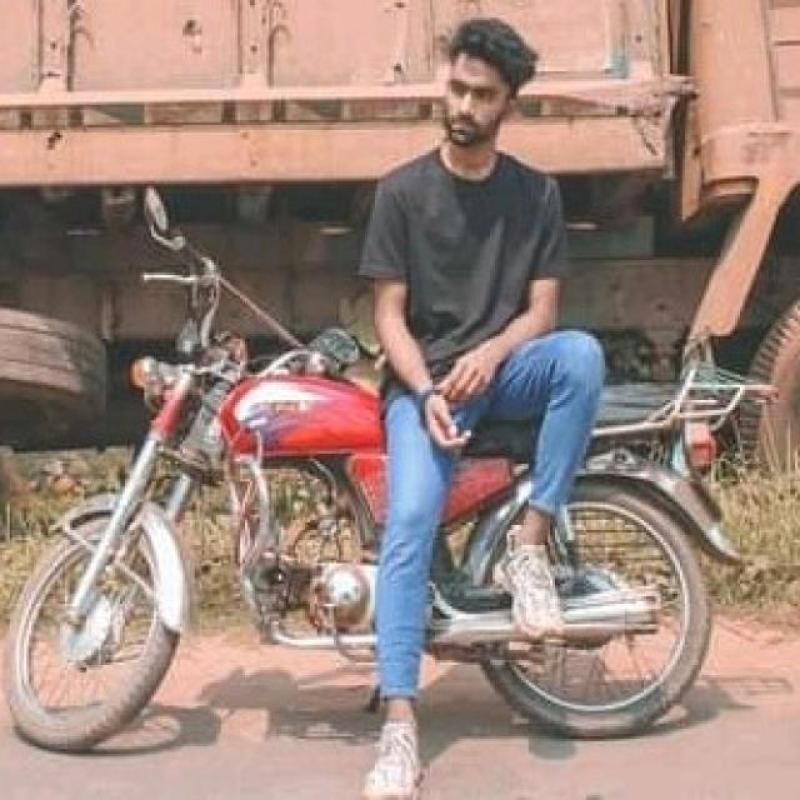nohelmet: (430, 17, 520, 146)
